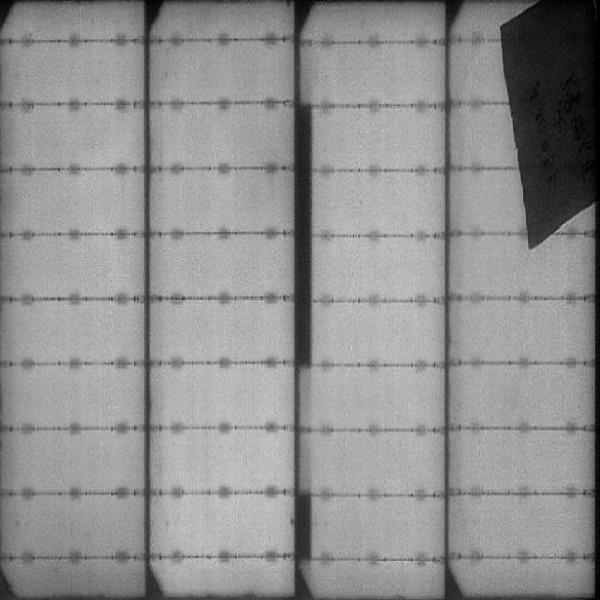black_border: (292, 98, 319, 375), (290, 488, 314, 565)
broken: (500, 1, 599, 250)
